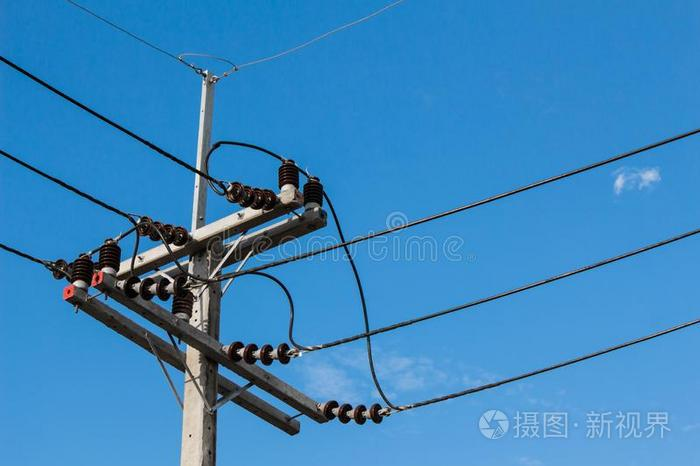insulator: (121, 275, 188, 306), (226, 339, 291, 369), (316, 398, 385, 426), (224, 181, 275, 210), (136, 216, 188, 244)
